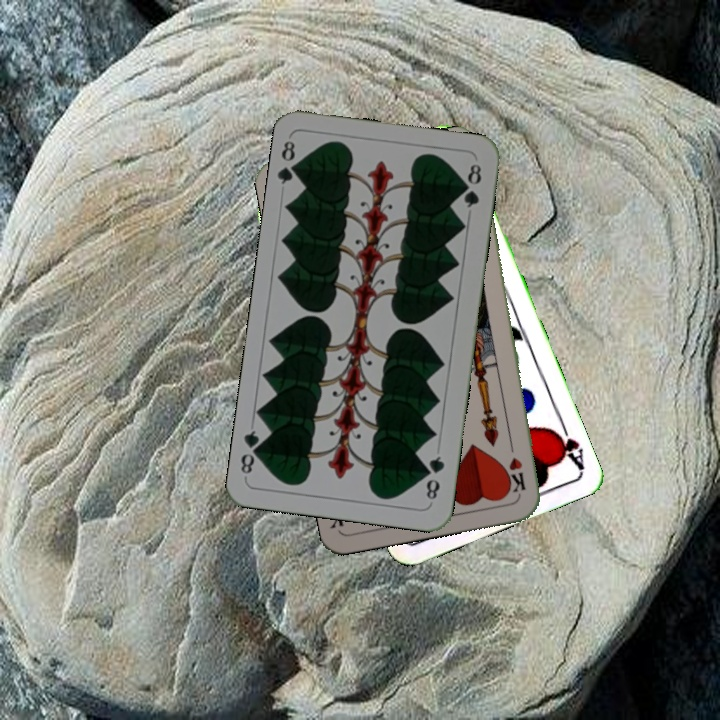G8: (274, 137, 304, 187), (421, 452, 447, 503)
HA: (547, 414, 587, 471)
HK: (504, 436, 528, 495)
